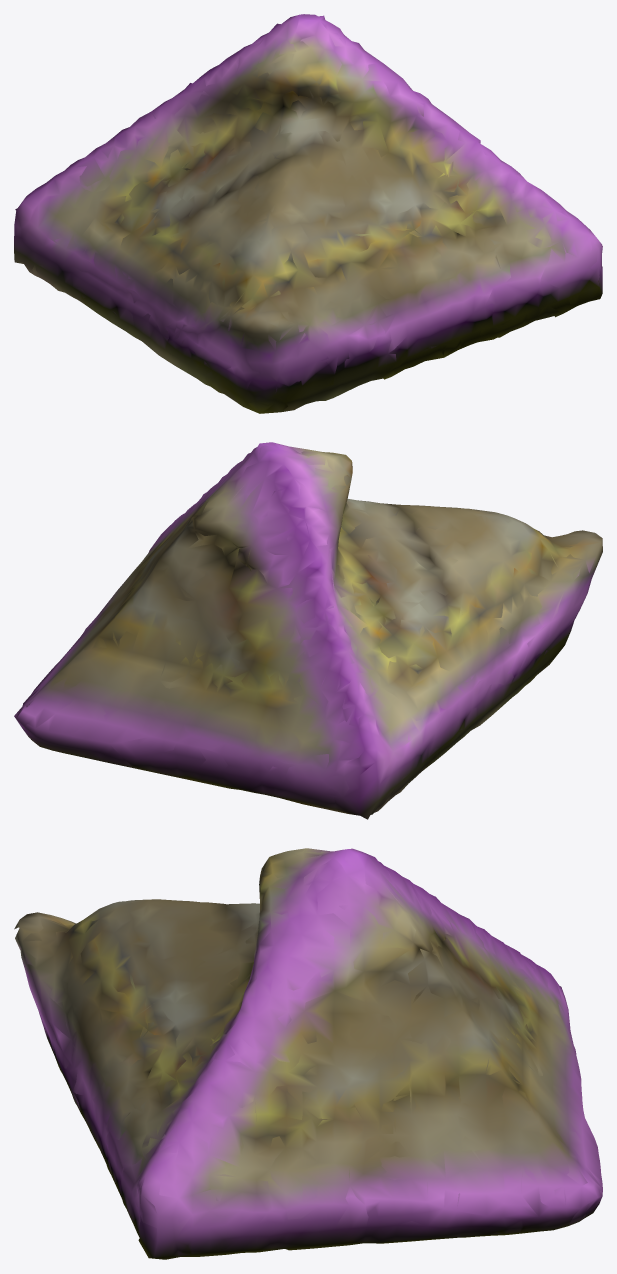
The model's file is yuri_tank_bunker.glb.
The picture shows the model from 3 angles, top to bottom: view 1: azimuth 30°, elevation 25°; view 2: azimuth 150°, elevation 25°; view 3: azimuth 270°, elevation 25°; orthographic projection. The views are drawn at different scales.
Visible parts, largest first — view 1: yuri_tank_bunker; view 2: yuri_tank_bunker; view 3: yuri_tank_bunker.
Part boxes in pixels (x1,y1,x2,y2): yuri_tank_bunker: (14, 14, 602, 413); yuri_tank_bunker: (14, 442, 602, 819); yuri_tank_bunker: (14, 848, 602, 1259).
Bounding box in the file's own units: 1.78 × 1.1 × 1.97.
